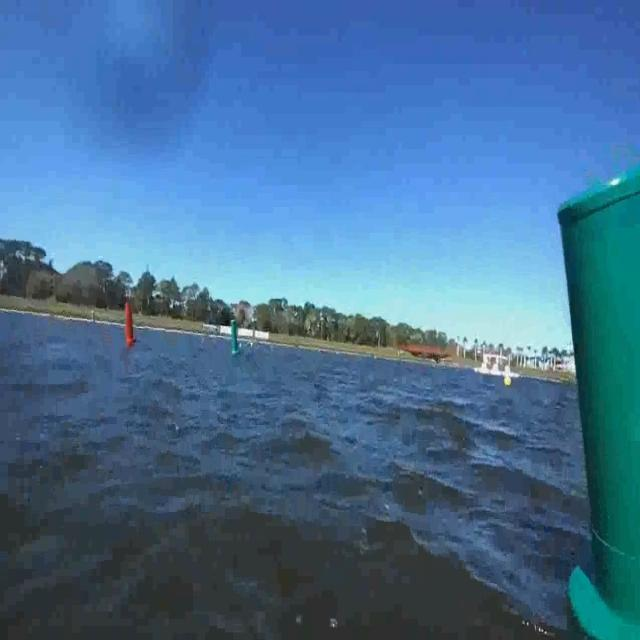green-column-buoy: (551, 140, 639, 640), (221, 307, 243, 363)
red-column-buoy: (116, 295, 141, 359)
